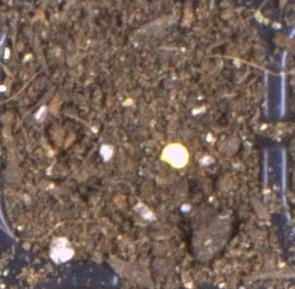chilli seed: (159, 143, 190, 169)
